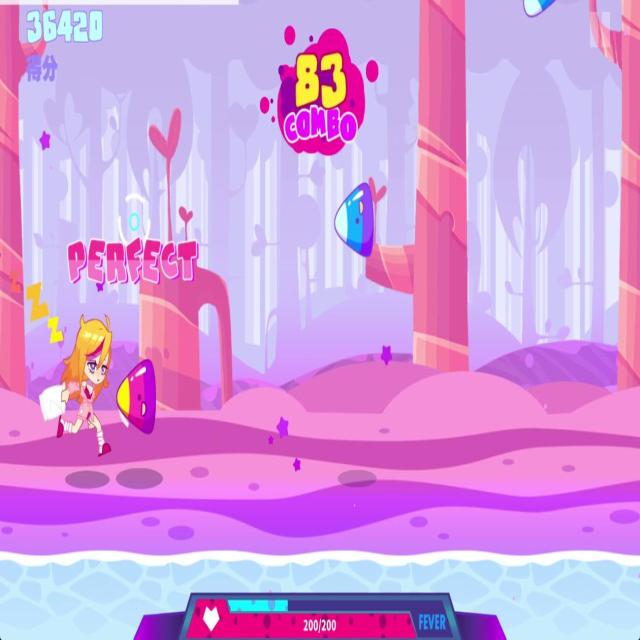jian: (115, 356, 159, 440), (334, 176, 376, 260)
